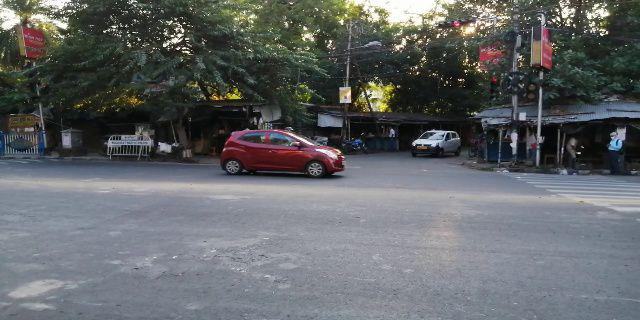Car: (218, 123, 344, 183), (408, 123, 462, 162)
